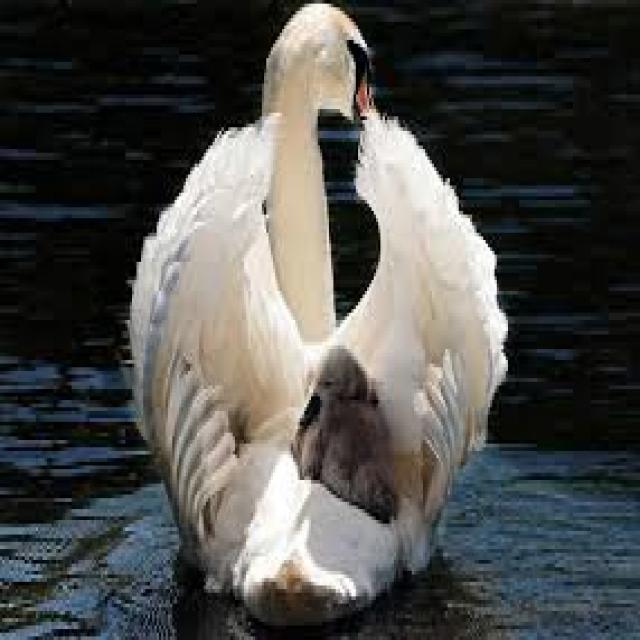swan: (132, 4, 506, 622)
